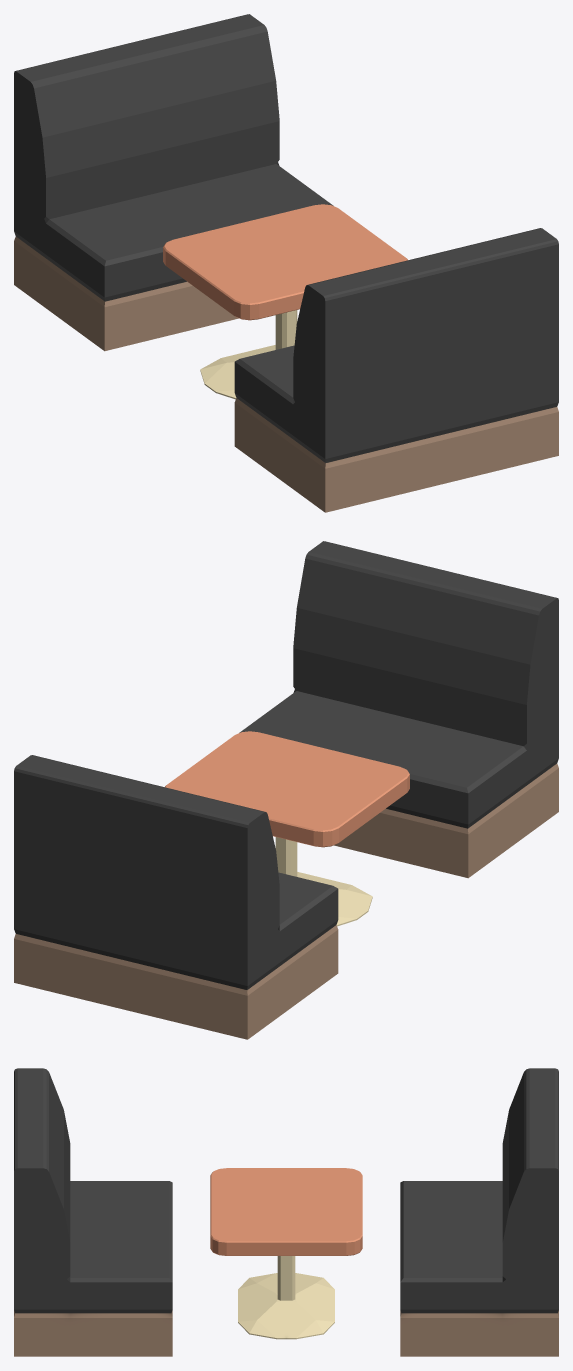
The model's file is Table.fbx.
The picture shows the model from 3 angles, top to bottom: view 1: azimuth 30°, elevation 25°; view 2: azimuth 150°, elevation 25°; view 3: azimuth 270°, elevation 25°; orthographic projection. The views are drawn at different scales.
Parts seen in each view (by area): view 1: Table; view 2: Table; view 3: Table.
Part boxes in pixels (x1,y1,x2,y2): Table: (14, 14, 558, 512); Table: (14, 541, 558, 1039); Table: (14, 1068, 558, 1356).
Size of the model in its own units: 461 by 176 by 200.
